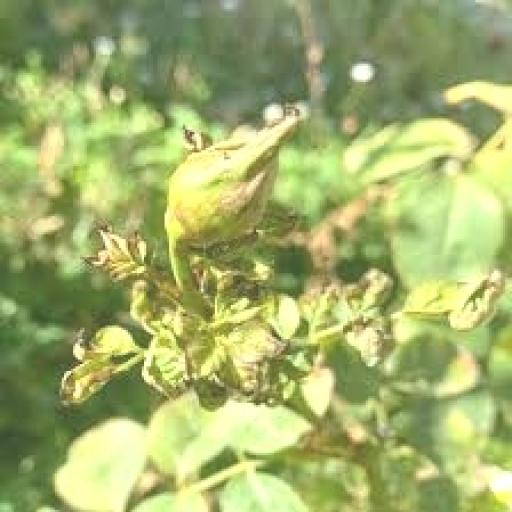thrip: (167, 105, 299, 314)
